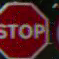Stop: (0, 2, 47, 58)
